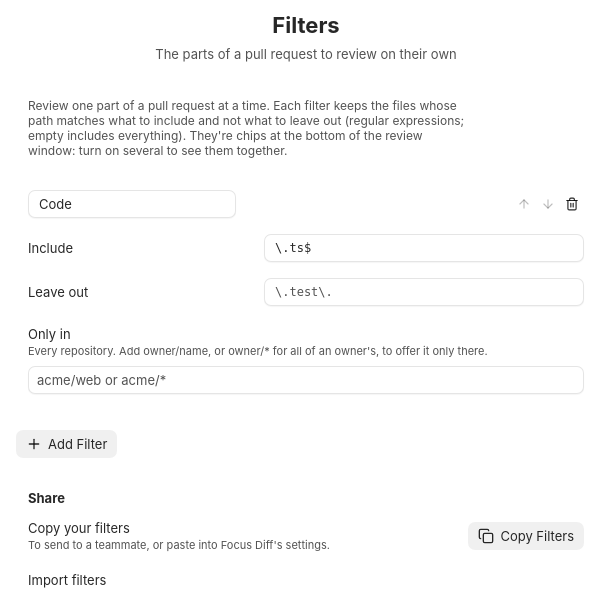
it: Sharing filters › copies the filters as text and says so until the button loses focus
This screenshot has width=604, height=596.
Click the button "Copy Filters": (526, 536) [468,522,584,550]
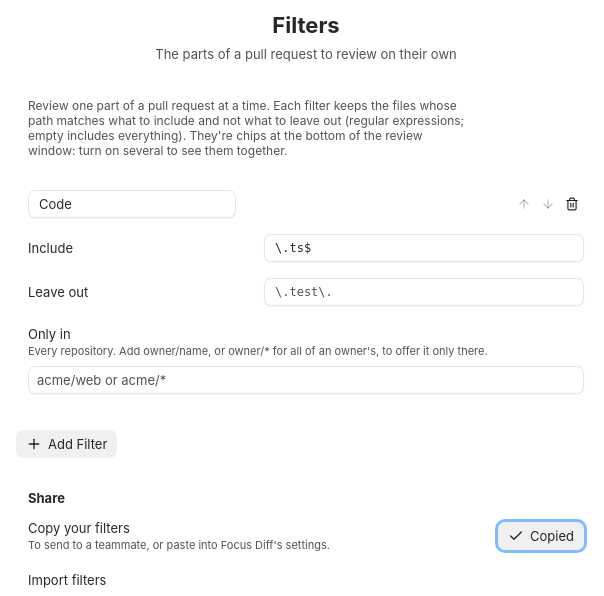
Leave the button "Copied", box [498,522,584,550]
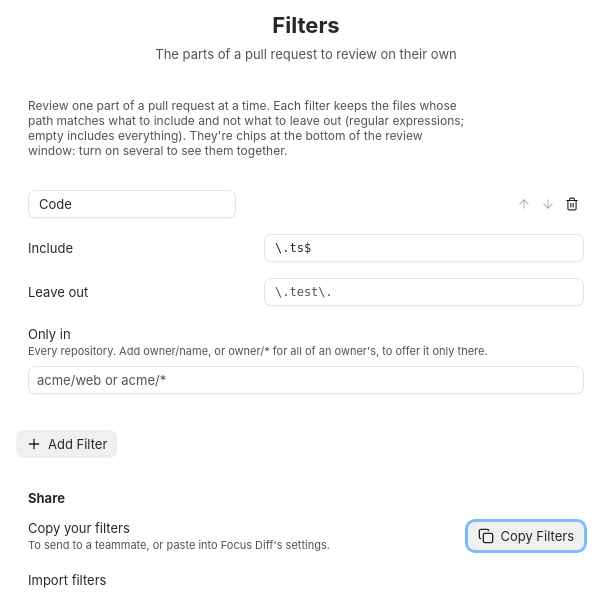
Expected: the button named "Copied" reads "Copy Filters", [468,522,584,550]
